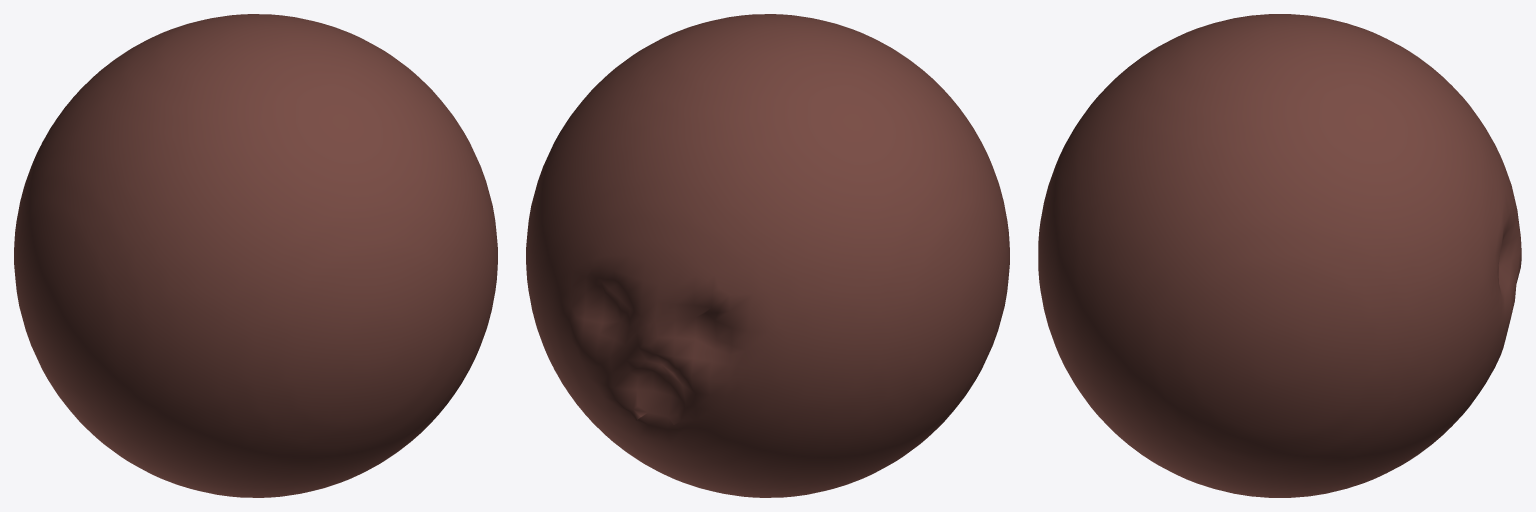
File: Coconut.fbx
The picture shows the model from 3 angles, left to right: view 1: azimuth 30°, elevation 25°; view 2: azimuth 150°, elevation 25°; view 3: azimuth 270°, elevation 25°; orthographic projection.
Parts seen in each view (by area): view 1: Quad Sphere; view 2: Quad Sphere; view 3: Quad Sphere.
Boxes of the visible parts, x1,y1,x2,y2 form: Quad Sphere: (14,14,497,497); Quad Sphere: (526,14,1009,497); Quad Sphere: (1038,14,1521,497).
Size of the model in its own units: 55.28 by 55.29 by 55.29.
